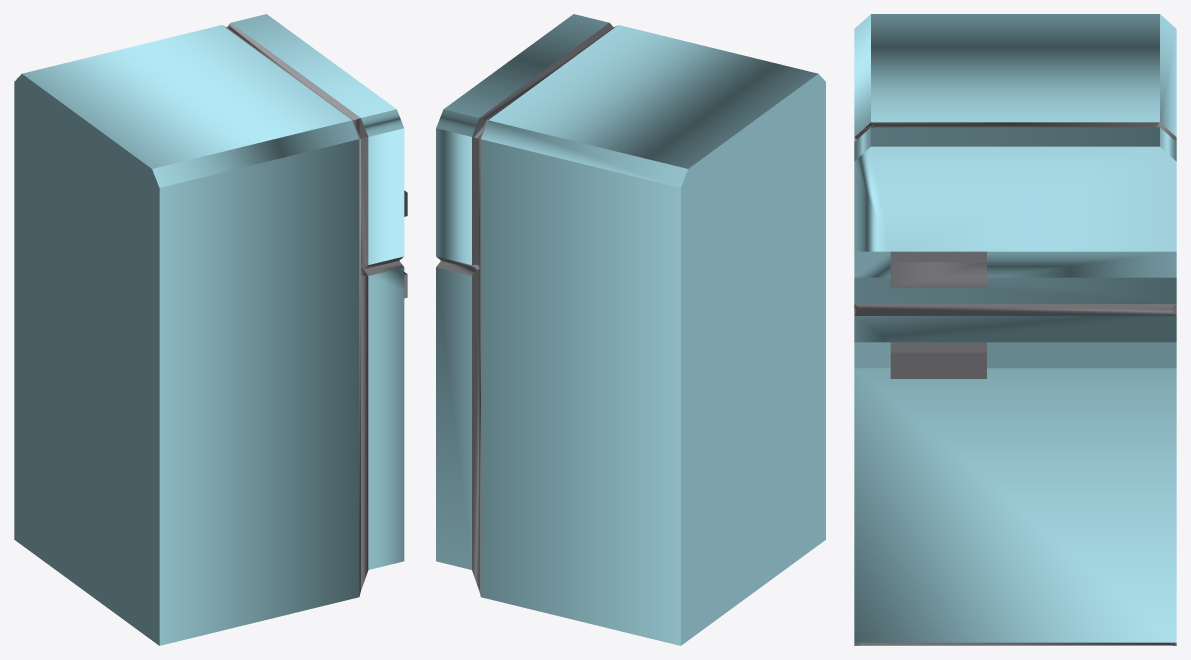
The model's file is Refrigerator_v01.fbx.
The picture shows the model from 3 angles, left to right: view 1: azimuth 30°, elevation 25°; view 2: azimuth 150°, elevation 25°; view 3: azimuth 270°, elevation 25°; orthographic projection. The views are drawn at different scales.
Visible parts, largest first — view 1: Cube; view 2: Cube; view 3: Cube.
Boxes of the visible parts, bbox=[...] form: Cube: bbox=[14, 14, 407, 645]; Cube: bbox=[436, 14, 825, 645]; Cube: bbox=[854, 14, 1176, 645].
Size of the model in its own units: 117 by 200 by 112.
